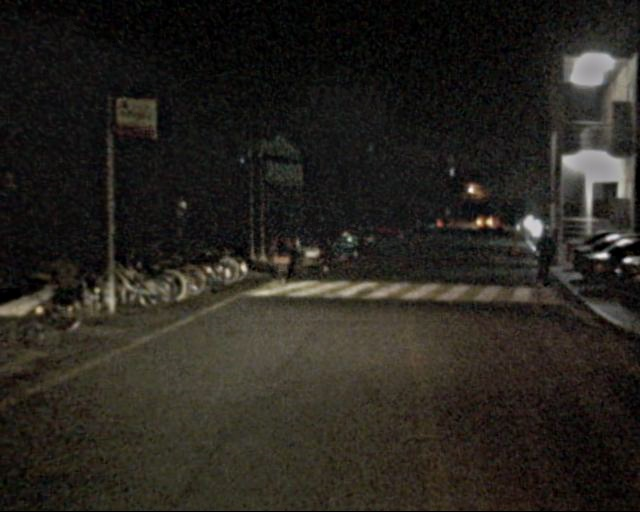person: (529, 231, 557, 300), (267, 226, 292, 288), (315, 222, 335, 270)
